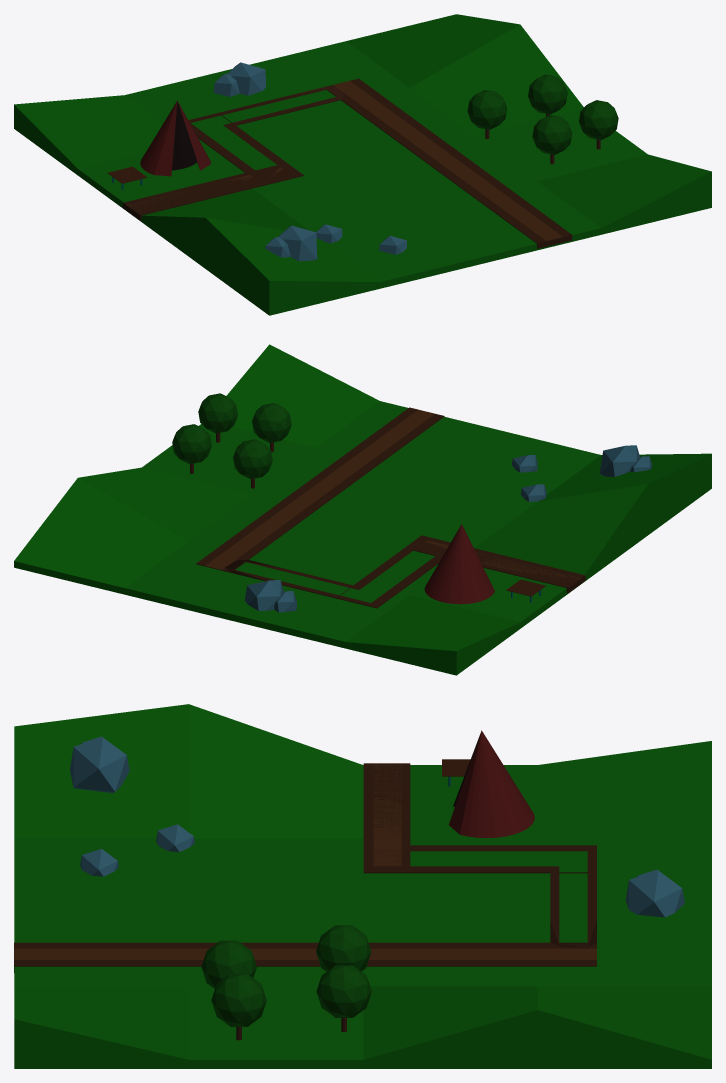
File: map.obj
The picture shows the model from 3 angles, top to bottom: view 1: azimuth 30°, elevation 25°; view 2: azimuth 150°, elevation 25°; view 3: azimuth 270°, elevation 25°; orthographic projection. The views are drawn at different scales.
Parts seen in each view (by area): view 1: Surface, Road, Cone, Icosphere.002, Icosphere.001, Icosphere, Icosphere.003, Rock.002, Rock.001; view 2: Surface, Road, Cone, Icosphere, Icosphere.002, Icosphere.003, Icosphere.001, Rock.002, Rock.001; view 3: Surface, Road, Cone, Rock.002, Icosphere.002, Icosphere.003, Rock.001, Icosphere, Icosphere.001, Rock.004, Rock.005.
Boxes of the visible parts, x1,y1,x2,y2 form: Surface: [14, 14, 711, 315]; Road: [123, 78, 572, 248]; Cone: [140, 101, 210, 176]; Icosphere.002: [528, 74, 567, 114]; Icosphere.001: [532, 115, 571, 154]; Icosphere: [467, 90, 507, 129]; Icosphere.003: [579, 100, 618, 139]; Rock.002: [278, 225, 317, 261]; Rock.001: [227, 62, 265, 95]; Surface: [14, 344, 711, 675]; Road: [196, 407, 585, 608]; Cone: [424, 524, 494, 604]; Icosphere: [233, 439, 272, 479]; Icosphere.002: [172, 424, 211, 464]; Icosphere.003: [198, 393, 237, 433]; Icosphere.001: [252, 403, 291, 442]; Rock.002: [599, 445, 639, 476]; Rock.001: [244, 580, 283, 610]; Surface: [14, 704, 711, 1068]; Road: [14, 763, 596, 972]; Cone: [449, 730, 534, 838]; Rock.002: [70, 737, 129, 793]; Icosphere.002: [316, 965, 371, 1017]; Icosphere.003: [211, 974, 266, 1026]; Rock.001: [626, 870, 684, 917]; Icosphere: [316, 925, 371, 971]; Icosphere.001: [201, 940, 256, 988]; Rock.004: [80, 849, 118, 876]; Rock.005: [156, 824, 194, 852].
Size of the model in its own units: 14.04 by 2.6 by 14.01.
